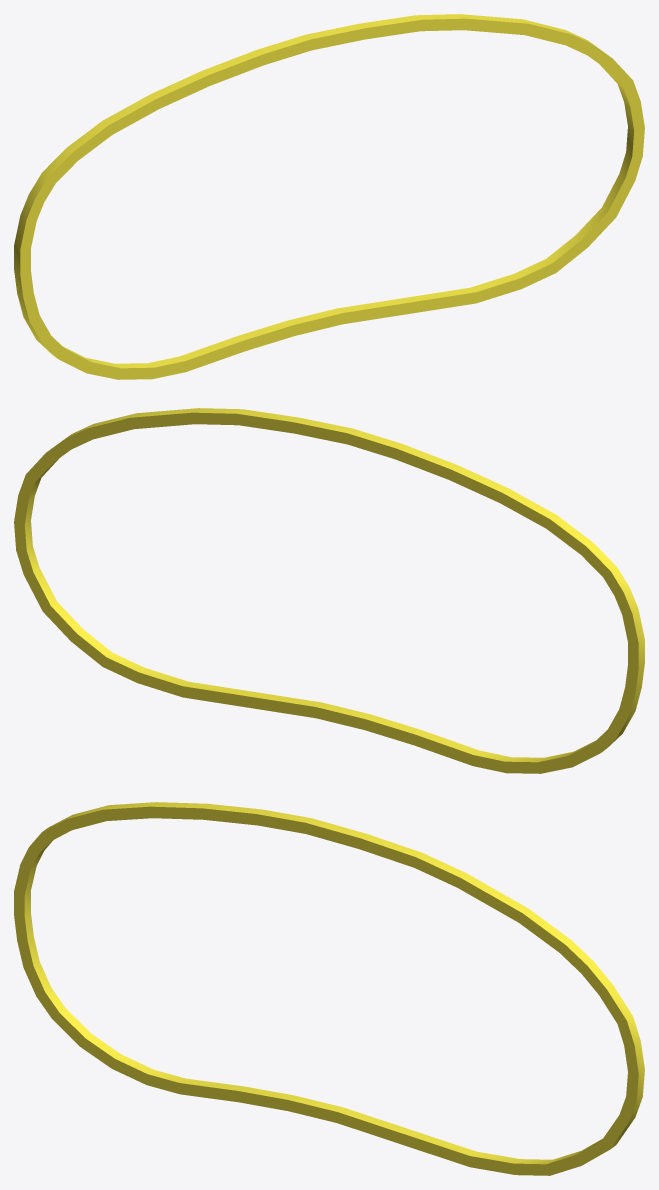
Rendered from rubberband.glb.
3 renders of one model, top to bottom at view 1: azimuth 30°, elevation 25°; view 2: azimuth 150°, elevation 25°; view 3: azimuth 330°, elevation 25°, orthographic.
Visible parts, largest first — view 1: Object_2; view 2: Object_2; view 3: Object_2.
Boxes of the visible parts, x1,y1,x2,y2 form: Object_2: (14,14,644,379); Object_2: (14,408,644,773); Object_2: (14,802,644,1175).
Size of the model in its own units: 85.92 by 40 by 1.47.
